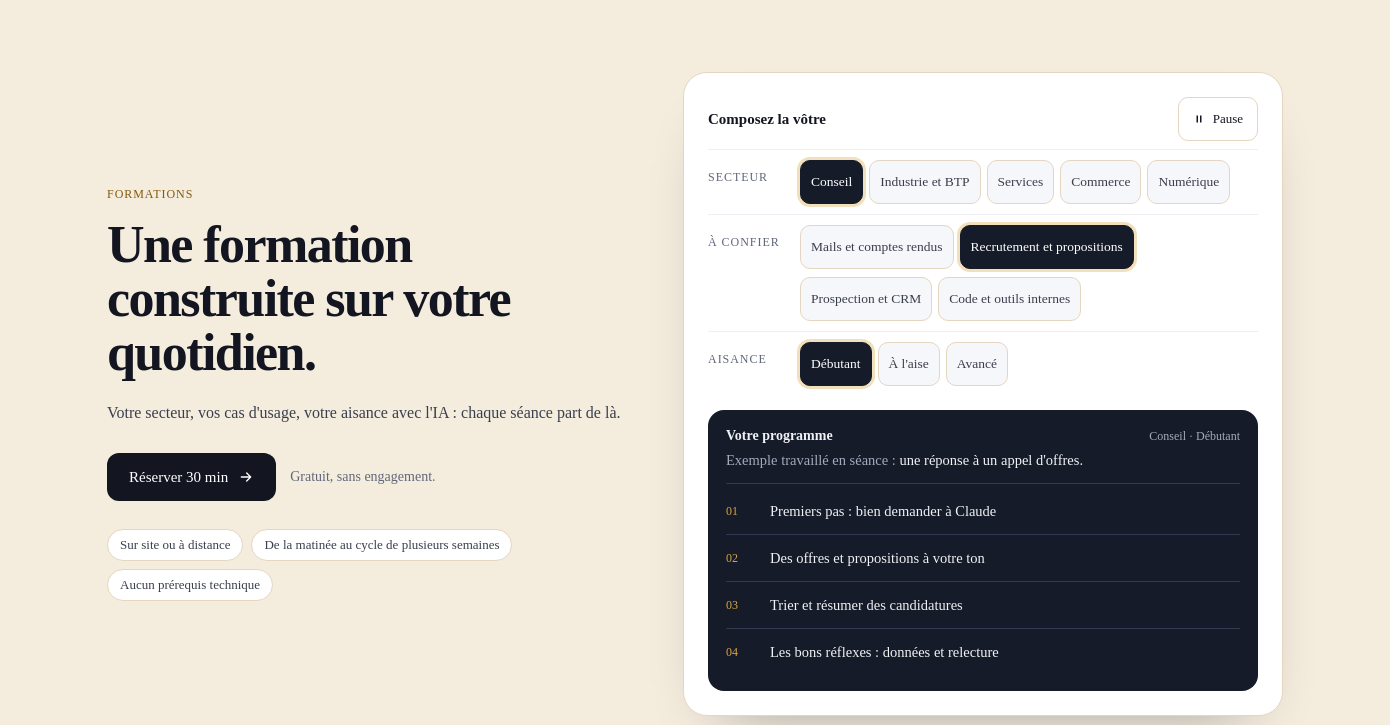
Test: auto-demo › picking a chip stops the demo
Click the button "Services" at [1020, 182], box [986, 160, 1054, 204]
Wait 20000 ms
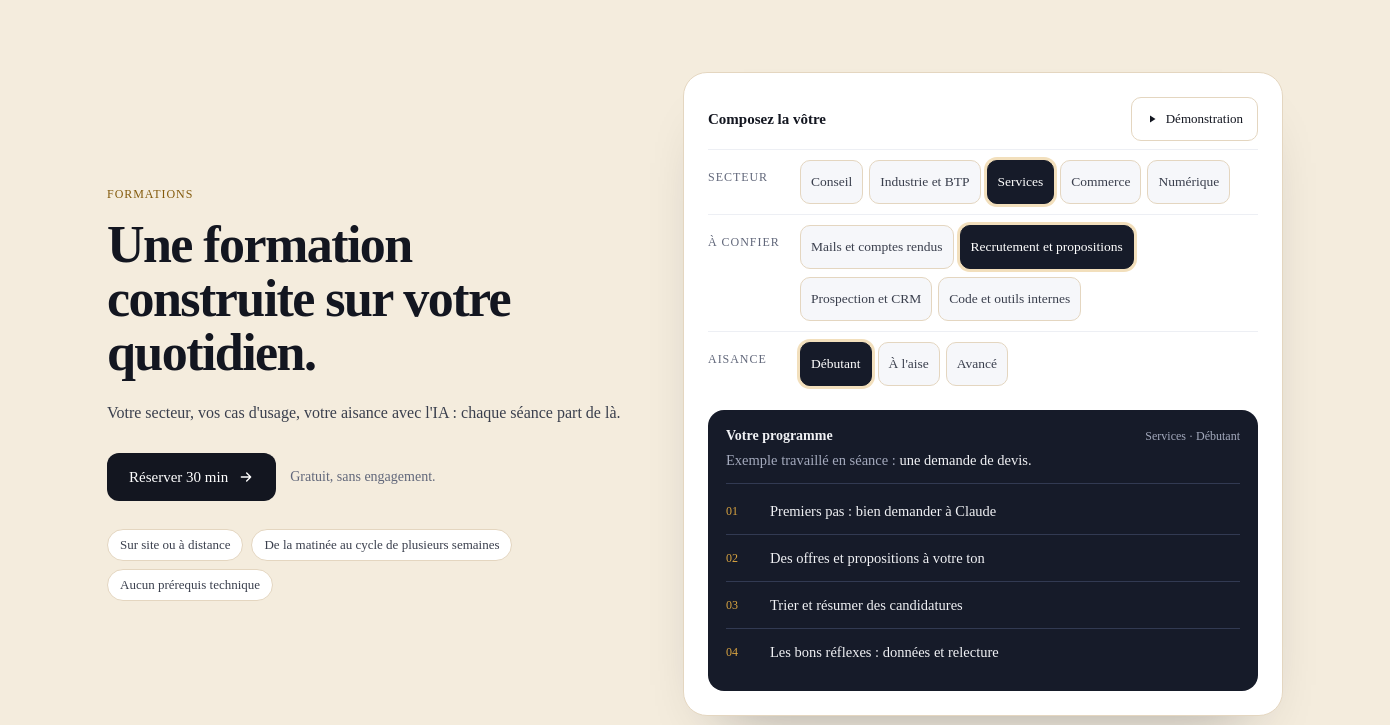
Expected: the text "Services · Débutant" is shown, [1145, 429, 1240, 444]
